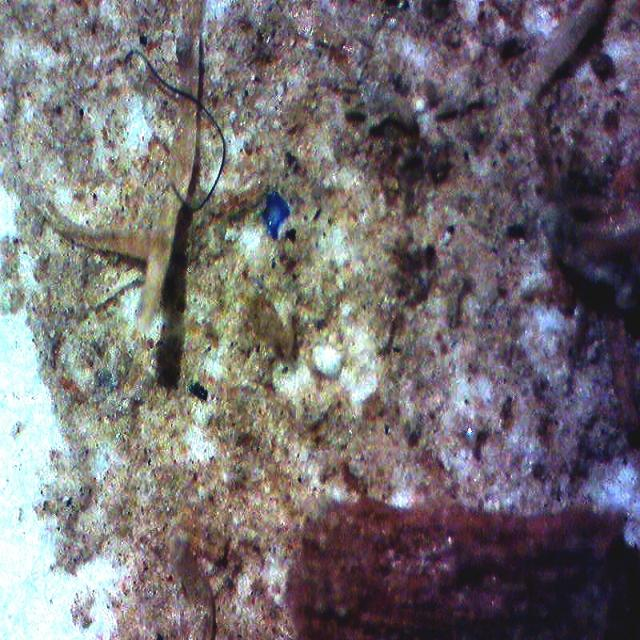microplastic: (126, 49, 226, 214)
